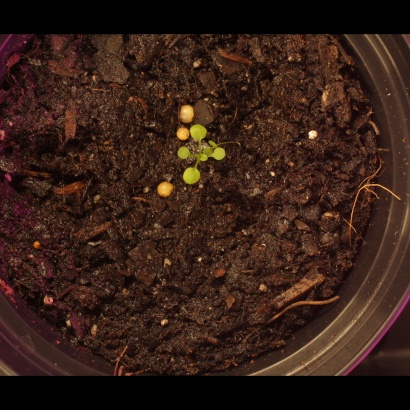leaf: (181, 166, 204, 189), (170, 140, 193, 163), (188, 118, 211, 141), (213, 146, 236, 169), (192, 144, 215, 167)
